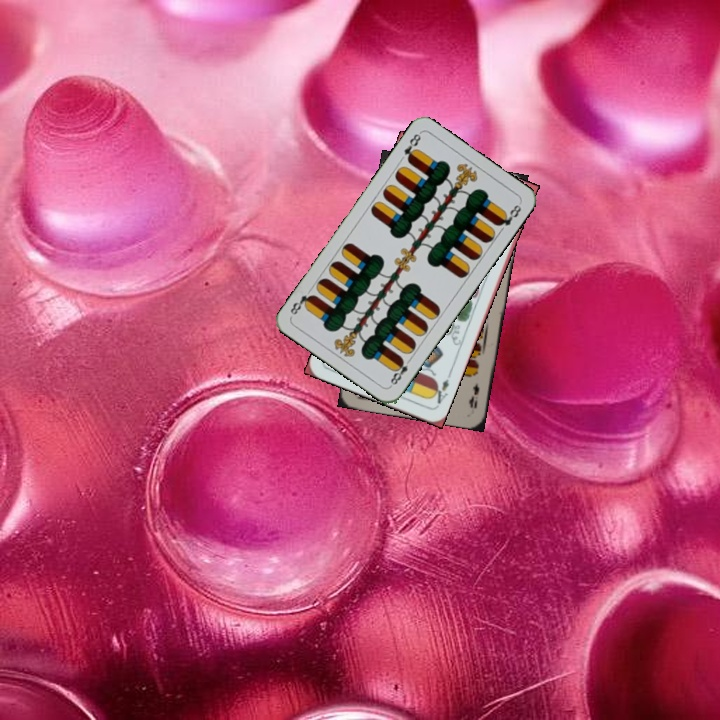E8: (386, 354, 415, 389), (399, 129, 424, 165)
E9: (465, 380, 482, 411)
EA: (428, 375, 451, 409)
